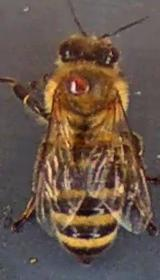varroa_mite: (60, 69, 99, 100)
